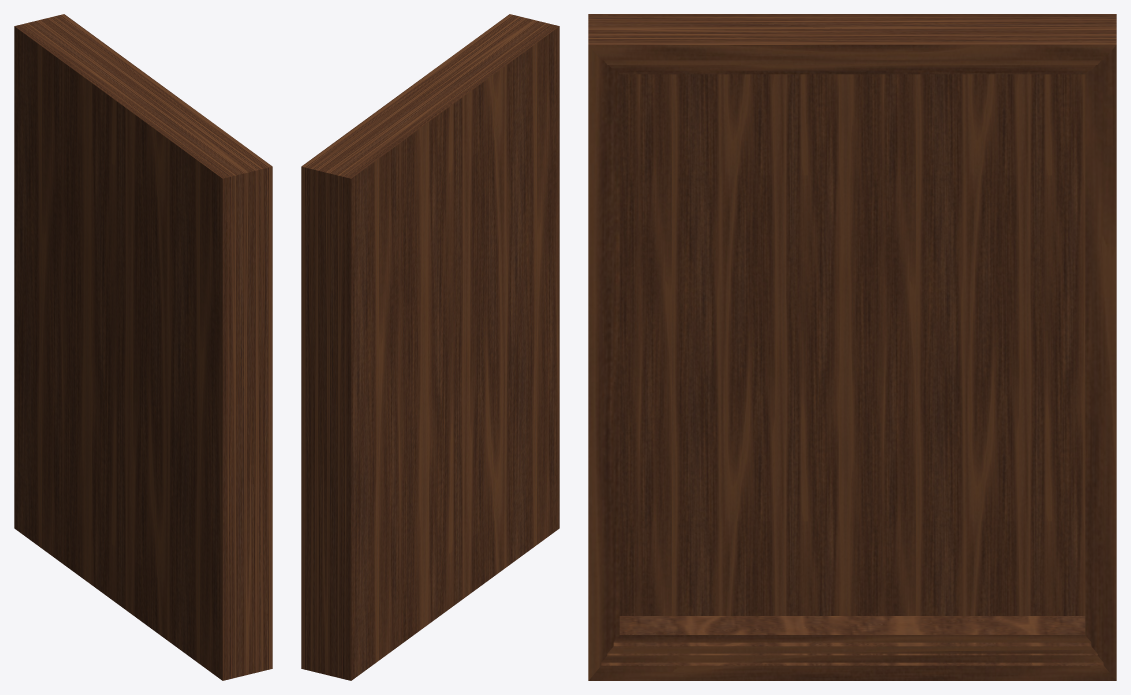
The model's file is marco.obj.
3 views of the same model, side by side, from view 1: azimuth 30°, elevation 25°; view 2: azimuth 150°, elevation 25°; view 3: azimuth 270°, elevation 25° (orthographic). The views are drawn at different scales.
Parts seen in each view (by area): view 1: Cube; view 2: Cube; view 3: Cube.
Part boxes in pixels (left/top/right/bottom): Cube: left=14, top=14, right=272, bottom=680; Cube: left=301, top=14, right=559, bottom=680; Cube: left=588, top=14, right=1116, bottom=680.
Size of the model in its own units: 0.7983 by 7.67 by 5.77.
1 material, 1 textured.
